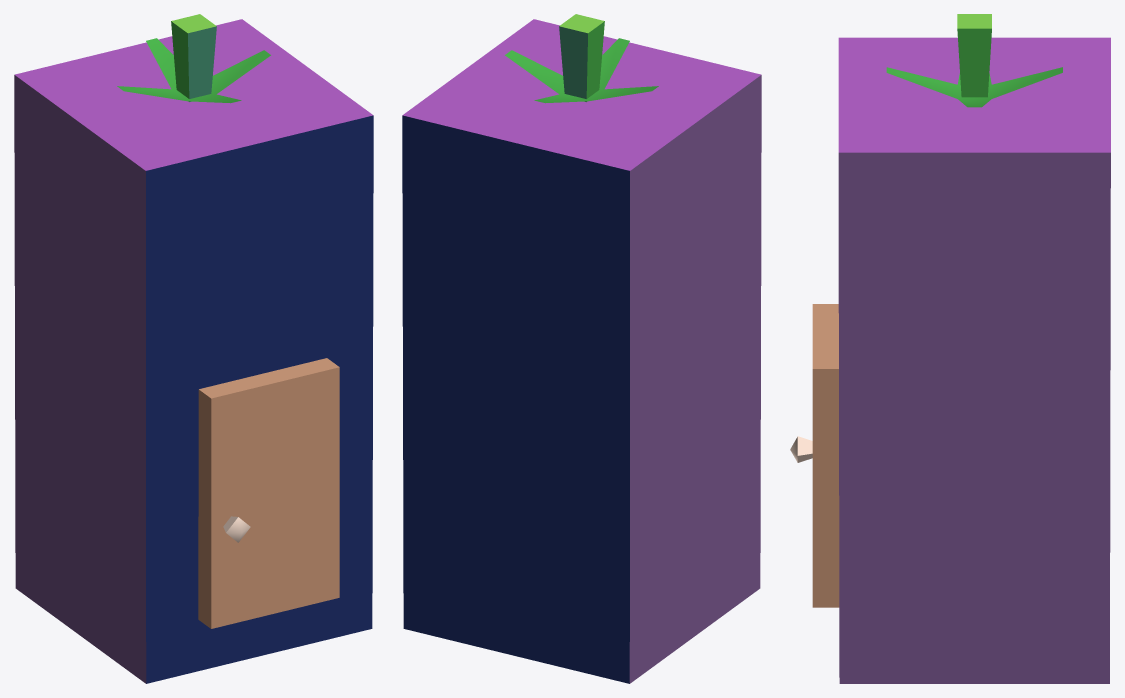
The model's file is houseEggplant.fbx.
The picture shows the model from 3 angles, left to right: view 1: azimuth 30°, elevation 25°; view 2: azimuth 150°, elevation 25°; view 3: azimuth 270°, elevation 25°; orthographic projection. The views are drawn at different scales.
Visible parts, largest first — view 1: body, door, stalk, leaf; view 2: body, stalk, leaf; view 3: body, door, stalk, leaf.
Part boxes in pixels (x1=…): body: x1=14, y1=19, x2=373, y2=683; door: x1=198, y1=358, x2=339, y2=628; stalk: x1=171, y1=14, x2=216, y2=101; leaf: x1=117, y1=38, x2=270, y2=103; body: x1=402, y1=19, x2=761, y2=683; stalk: x1=559, y1=14, x2=604, y2=101; leaf: x1=505, y1=38, x2=658, y2=103; body: x1=838, y1=37, x2=1110, y2=683; door: x1=812, y1=304, x2=839, y2=607; stalk: x1=957, y1=14, x2=991, y2=97; leaf: x1=886, y1=67, x2=1062, y2=107.
Size of the model in its own units: 69.32 by 170 by 81.65.
2 materials, 2 textured.
